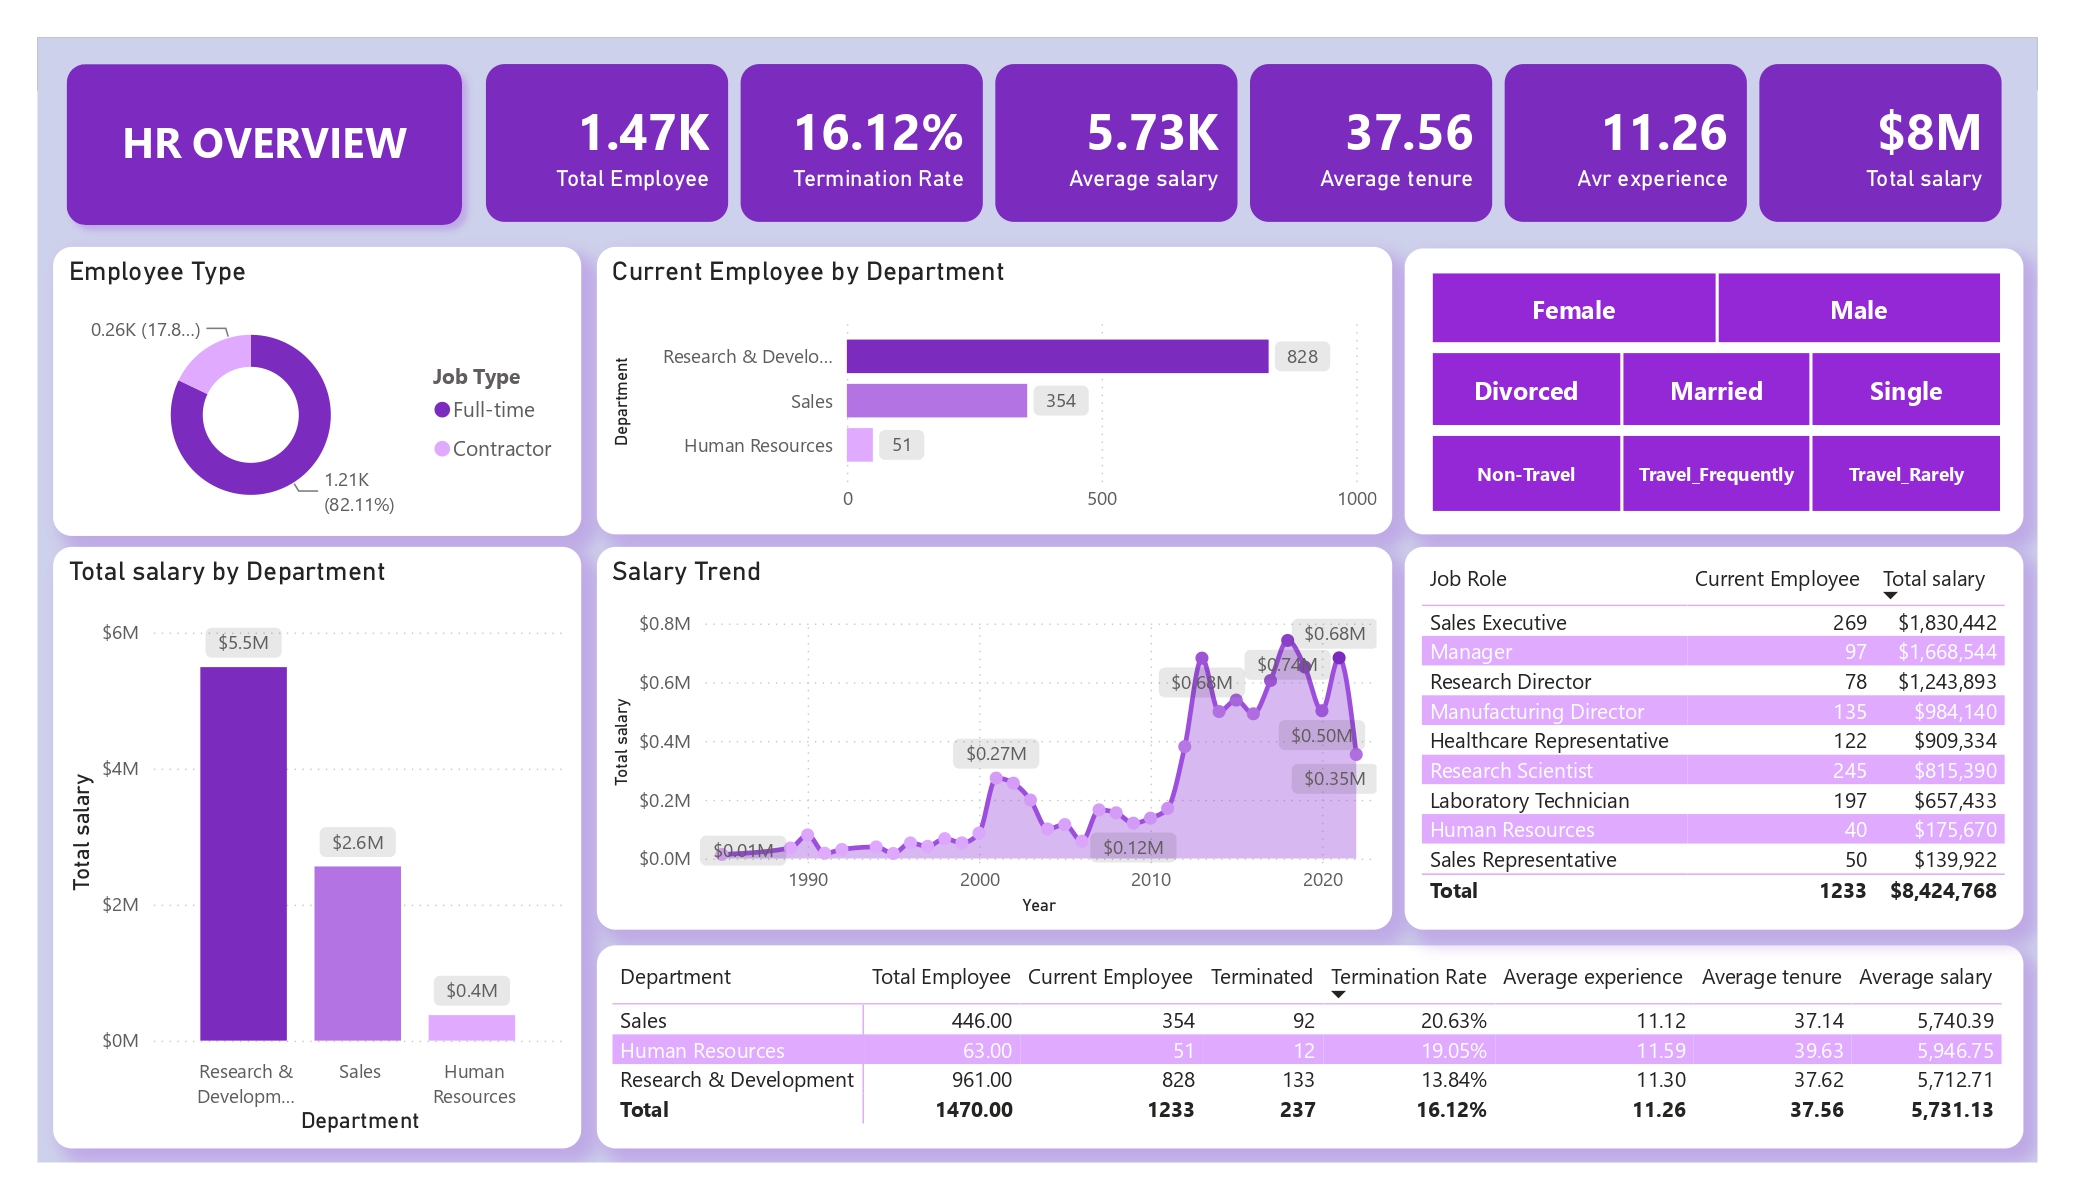

Layout of this report page (visuals, bound fields, positions):
{"tool":"powerbi","page":{"name":"HR Overview","canvas":[1280,720],"ordinal":0},"visuals":[{"type":"shape","box":[875,135,396,183],"z":0,"group":"g2"},{"type":"cardVisual","fields":{"Data":["All measure.Total Employee","All measure.Termination Rate","All measure.Average salary","All measure.Average tenure","All measure.Average experience","All measure.Total salary"]},"box":[270,0,1009.6,135.2],"z":1000},{"type":"slicer","fields":{"Values":["HR Dashboard.BusinessTravel"]},"box":[867,248,413,62],"z":2000,"group":"g2"},{"type":"slicer","fields":{"Values":["HR Dashboard.MaritalStatus"]},"box":[867,195,413,60],"z":3000,"group":"g2"},{"type":"slicer","fields":{"Values":["HR Dashboard.Gender"]},"box":[867,144,413,58],"z":4000,"group":"g2"},{"type":"donutChart","title":"Employee Type","fields":{"Y":["All measure.Total Employee"],"Category":["HR Dashboard.EmploymentType"]},"box":[9.7,134.2,338.5,184.8],"z":5000},{"type":"barChart","fields":{"Y":["All measure.Current Employee"],"Category":["HR Dashboard.Department"]},"box":[357.9,134.2,508.7,183.8],"z":6000},{"type":"clusteredColumnChart","fields":{"Y":["All measure.Total salary"],"Category":["HR Dashboard.Department"]},"box":[9.7,325.8,338.5,385.2],"z":7000},{"type":"group","id":"g1","title":"Group 1","box":[9.7,7.8,271.4,120.6],"z":8000},{"type":"lineChart","title":"Salary Trend","fields":{"Y":["All measure.Total salary"],"Category":["HR Dashboard.DateStart.Variation.Date Hierarchy.Year"]},"box":[357.9,325.8,508.7,245.1],"z":9000},{"type":"shape","box":[9.7,7.8,271.4,120.6],"z":10000,"group":"g1"},{"type":"textbox","box":[48.6,42.8,193.6,49.6],"z":11000,"group":"g1"},{"type":"pivotTable","fields":{"Rows":["HR Dashboard.Department"],"Values":["All measure.Total Employee","All measure.Current Employee","All measure.Terminated","All measure.Termination Rate","All measure.Average experience","All measure.Average tenure","All measure.Average salary"]},"box":[357.9,580.7,913.3,130.3],"z":11000},{"type":"group","id":"g2","title":"Group 2","box":[867,135,413,183],"z":11501},{"type":"tableEx","fields":{"Values":["HR Dashboard.Job Role","All measure.Current Employee","All measure.Total salary"]},"box":[875.4,325.8,395.9,245.1],"z":12001}]}

Visuals, with their boxes on the page's 1280x720 design canvas (x1, y1, x2, y2). These are canvas units, not pixel positions in the 2075x1200 screenshot, which may show the page scaled, cropped or inside an application window:
shape: box(875, 135, 1271, 318)
cardVisual - All measure.Total Employee x All measure.Termination Rate: box(270, 0, 1280, 135)
slicer - HR Dashboard.BusinessTravel: box(867, 248, 1280, 310)
slicer - HR Dashboard.MaritalStatus: box(867, 195, 1280, 255)
slicer - HR Dashboard.Gender: box(867, 144, 1280, 202)
"Employee Type" donutChart: box(10, 134, 348, 319)
barChart - All measure.Current Employee x HR Dashboard.Department: box(358, 134, 867, 318)
clusteredColumnChart - All measure.Total salary x HR Dashboard.Department: box(10, 326, 348, 711)
"Group 1" group: box(10, 8, 281, 128)
"Salary Trend" lineChart: box(358, 326, 867, 571)
shape: box(10, 8, 281, 128)
textbox: box(49, 43, 242, 92)
pivotTable - HR Dashboard.Department x All measure.Total Employee: box(358, 581, 1271, 711)
"Group 2" group: box(867, 135, 1280, 318)
tableEx - HR Dashboard.Job Role x All measure.Current Employee: box(875, 326, 1271, 571)
